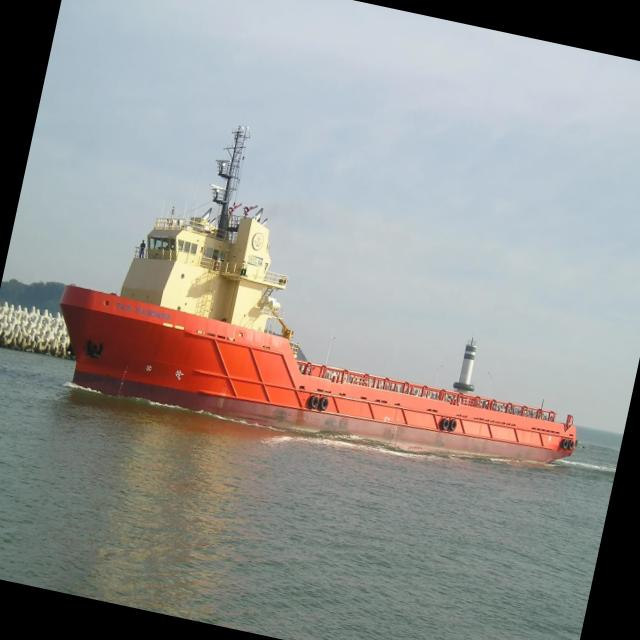Offshore: (60, 128, 577, 461)
